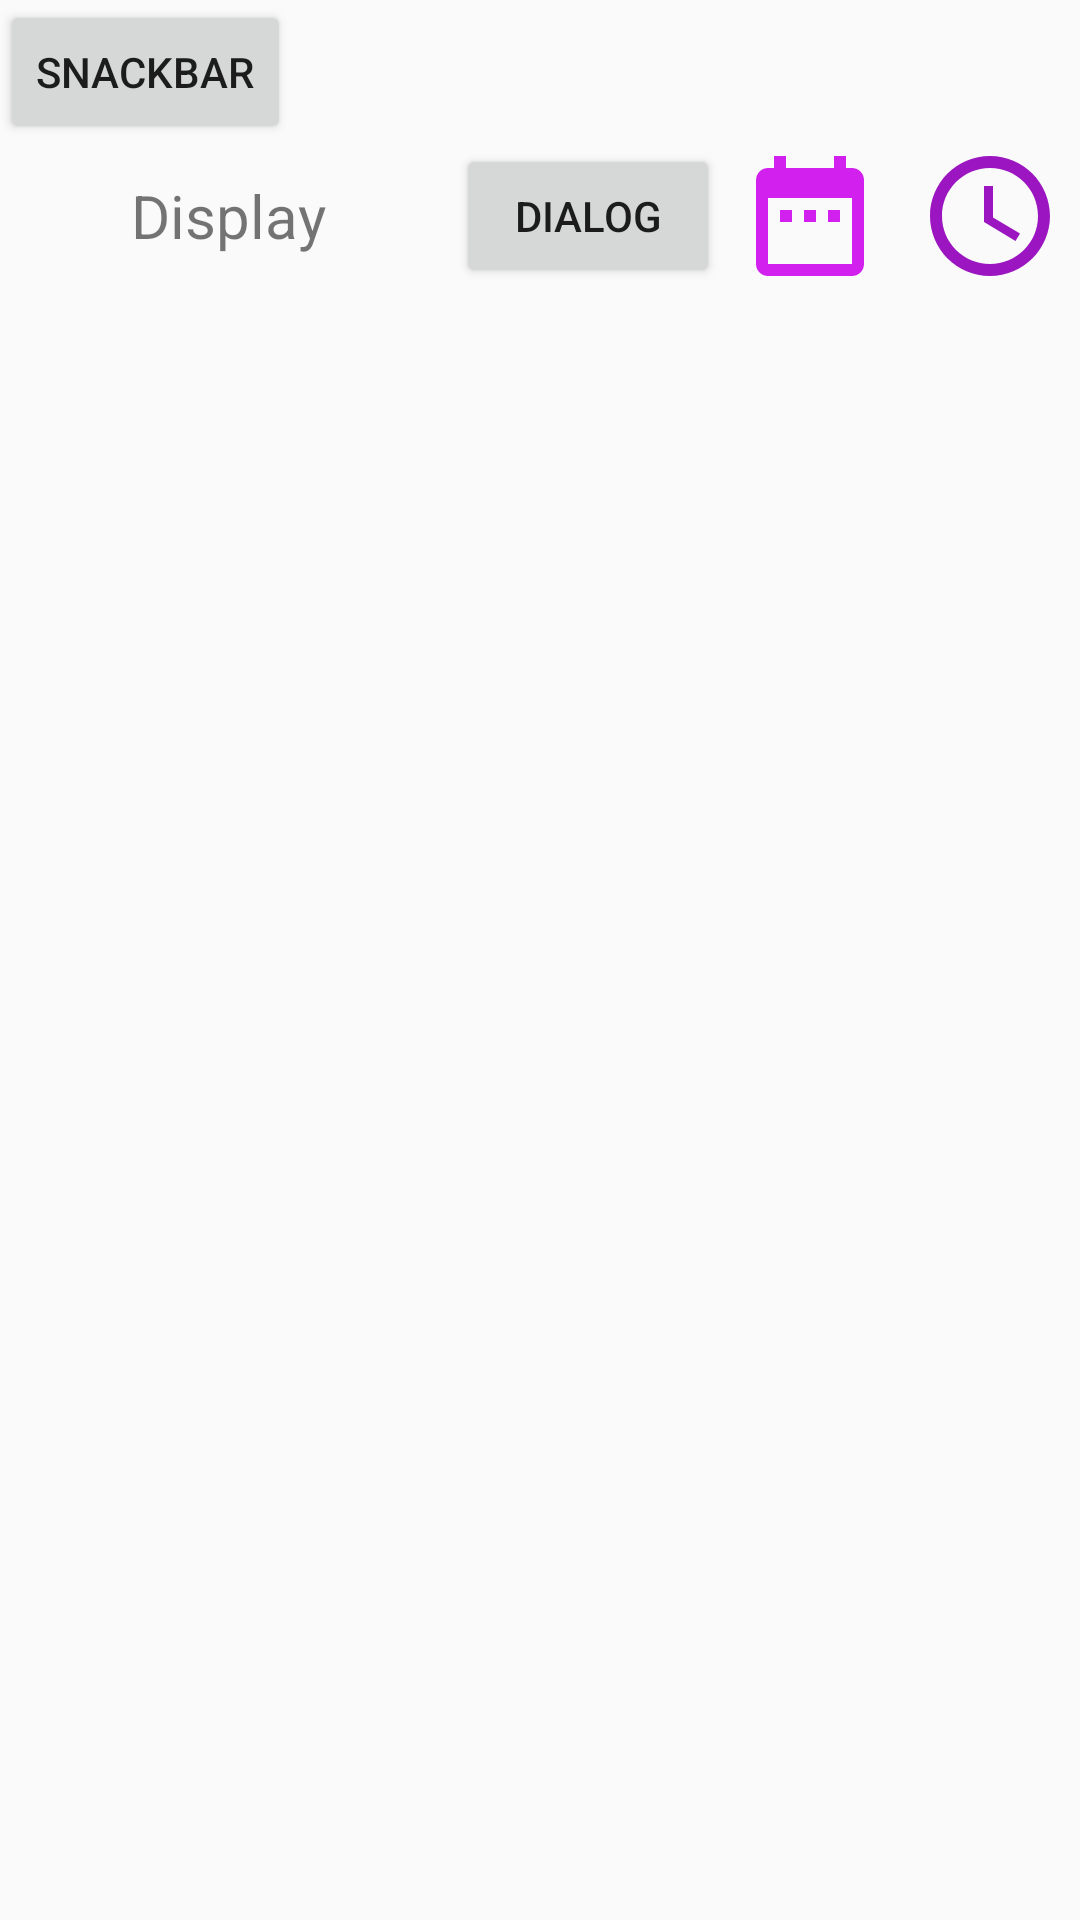

Where icons sit on this 1080x1920 app screen, as (x1, y1, x2, y2):
access time: (930, 156, 1050, 276)
date range: (756, 156, 864, 276)
